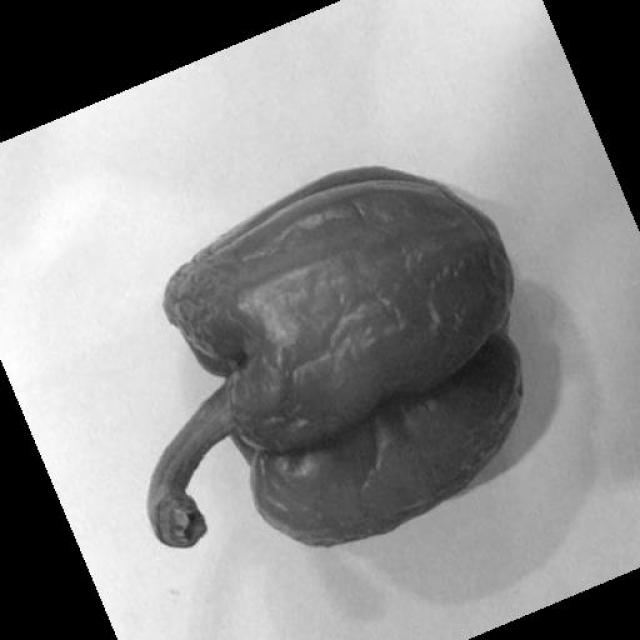Stale_Capsicum: (153, 150, 575, 568)
